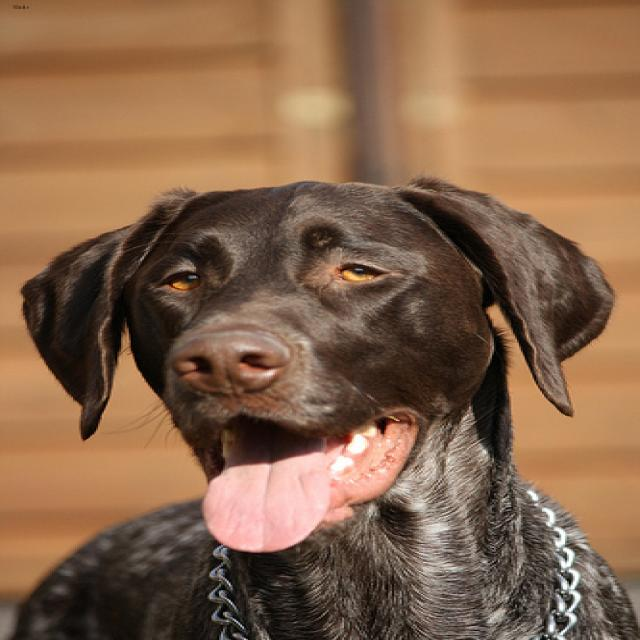dog-german_shorthaired: (2, 169, 636, 637)
